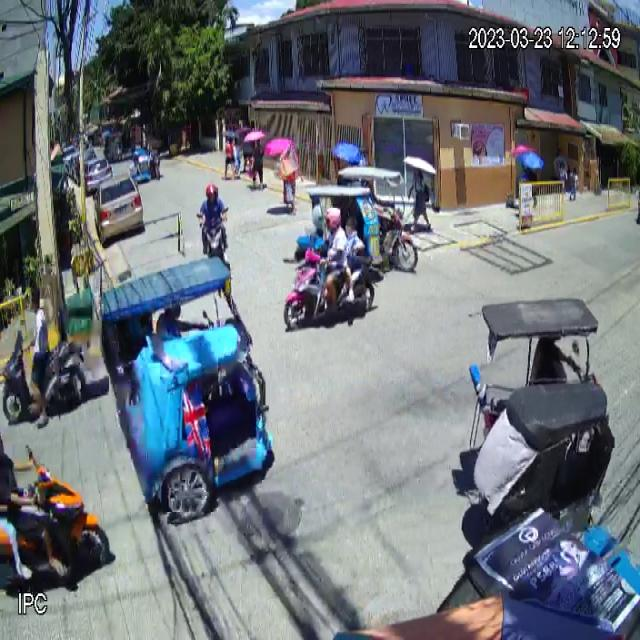Tricycle: (100, 257, 274, 521), (467, 297, 618, 541)
